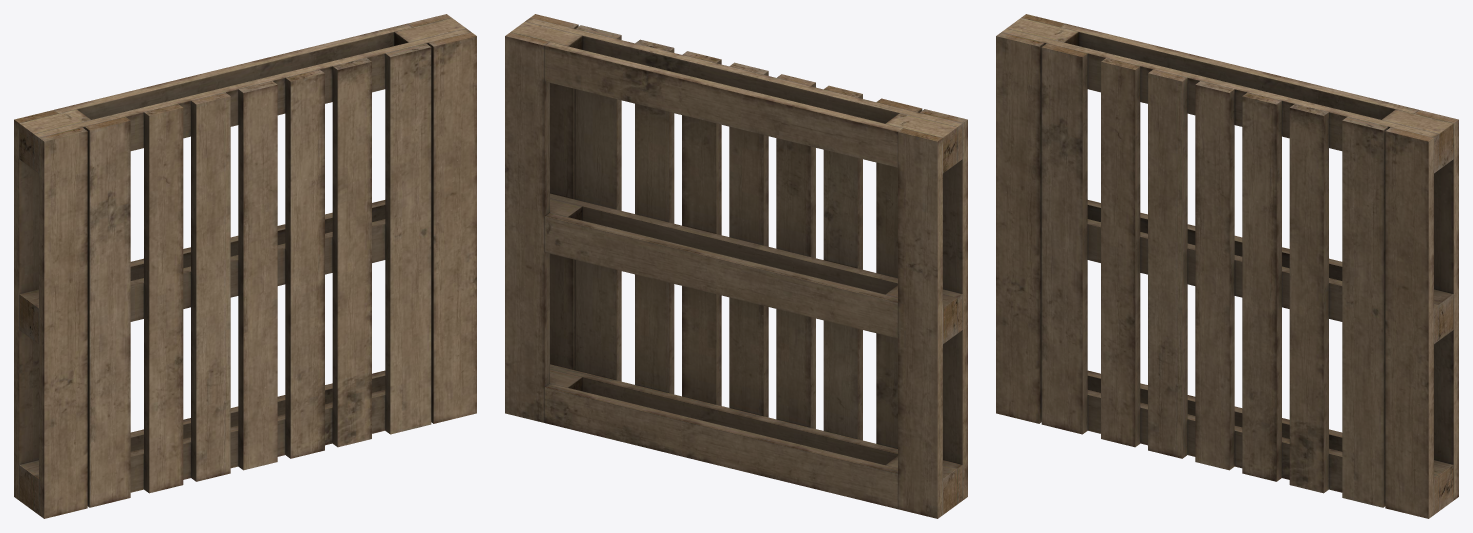
3 views of the same model, side by side, from view 1: azimuth 30°, elevation 25°; view 2: azimuth 150°, elevation 25°; view 3: azimuth 330°, elevation 25° (orthographic).
Visible parts, largest first — view 1: Box006.023; view 2: Box006.023; view 3: Box006.023.
Boxes of the visible parts, left/top/right/bottom form: Box006.023: left=14, top=14, right=476, bottom=518; Box006.023: left=505, top=14, right=967, bottom=518; Box006.023: left=996, top=14, right=1458, bottom=518.
Size of the model in its own units: 1.2 by 1 by 0.145.
Materials: 1 (1 with a texture image).
